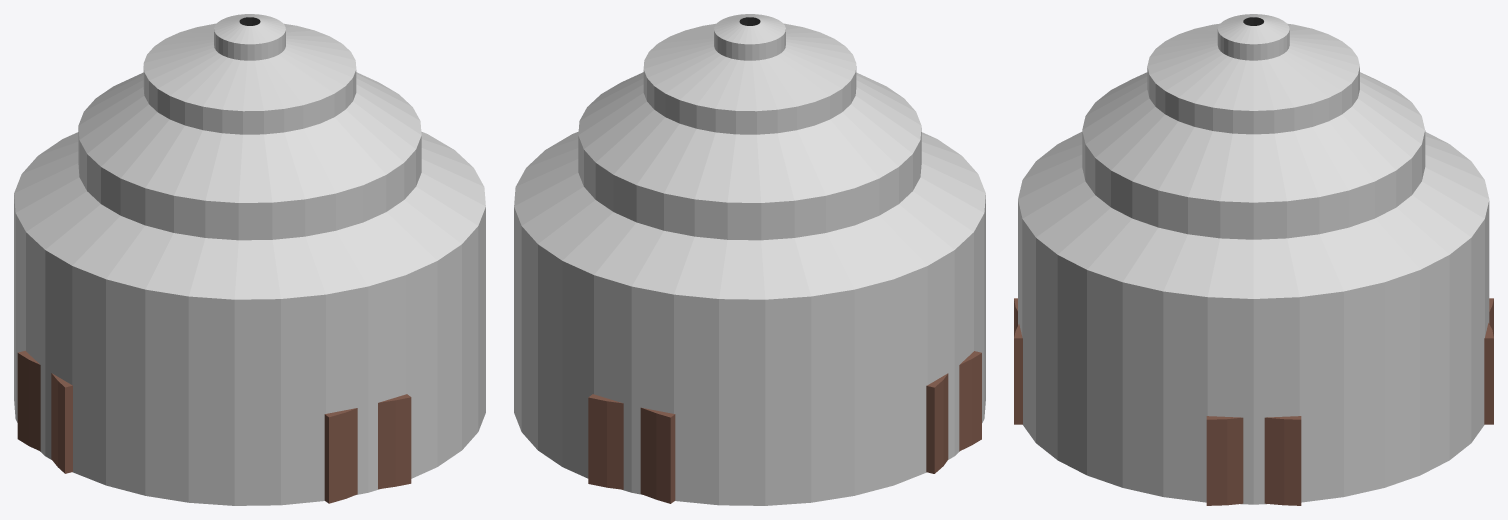
Rendered from Hub.fbx.
The picture shows the model from 3 angles, left to right: view 1: azimuth 30°, elevation 25°; view 2: azimuth 150°, elevation 25°; view 3: azimuth 270°, elevation 25°; orthographic projection.
Visible parts, largest first — view 1: Cylinder, Cube.001, Cube.003; view 2: Cylinder, Cube.002, Cube.003; view 3: Cylinder, Cube.004, Cube.002, Cube.001.
Boxes of the visible parts, x1=… form: Cylinder: x1=14, y1=14, x2=485, y2=505; Cube.001: x1=324, y1=394, x2=411, y2=503; Cube.003: x1=17, y1=350, x2=72, y2=473; Cylinder: x1=514, y1=14, x2=985, y2=505; Cube.002: x1=588, y1=394, x2=675, y2=503; Cube.003: x1=926, y1=351, x2=981, y2=473; Cylinder: x1=1018, y1=14, x2=1489, y2=504; Cube.004: x1=1206, y1=416, x2=1301, y2=505; Cube.002: x1=1484, y1=298, x2=1493, y2=424; Cube.001: x1=1014, y1=298, x2=1022, y2=424.
Size of the model in its own units: 7682 by 6861 by 7682.
